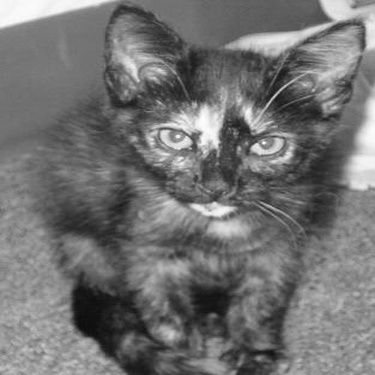cat: (10, 9, 373, 370)
